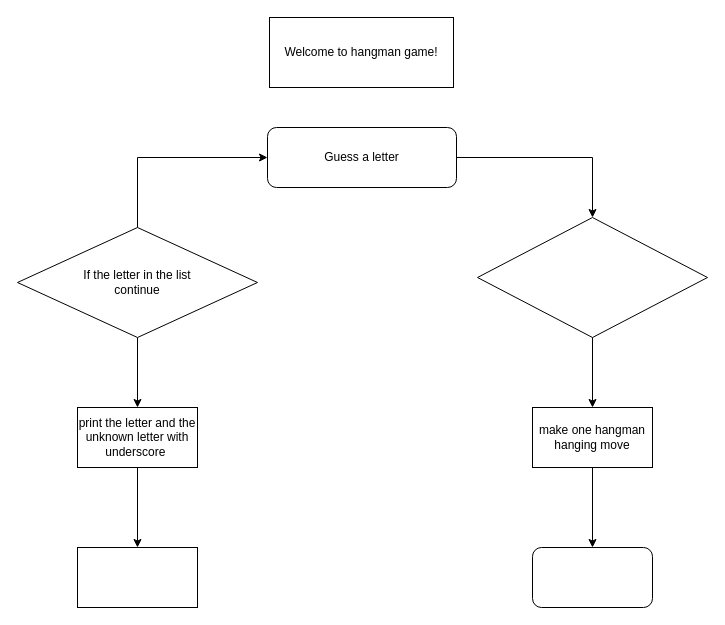
Some shapes in this 725 by 625 pixel diagram are drawn without their labels. The shapes that lost their labels are listed below. From the top down, each one's centre as x and y in pixels, then its label:
At point 592,277: "if the letter is not in the list make the drawing of the hangman".
At point 137,577: "if he guess all the letters then he win".
At point 592,577: "else; he lost".
